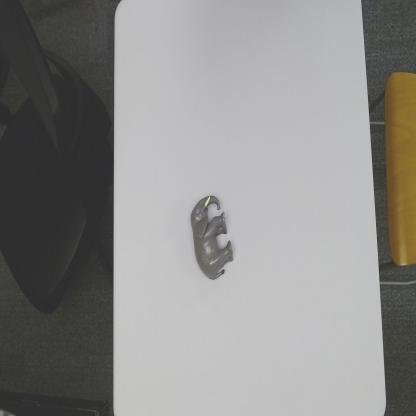Elephant: (189, 193, 234, 282)
